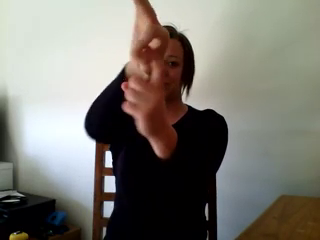Q: (116, 0, 182, 150)
